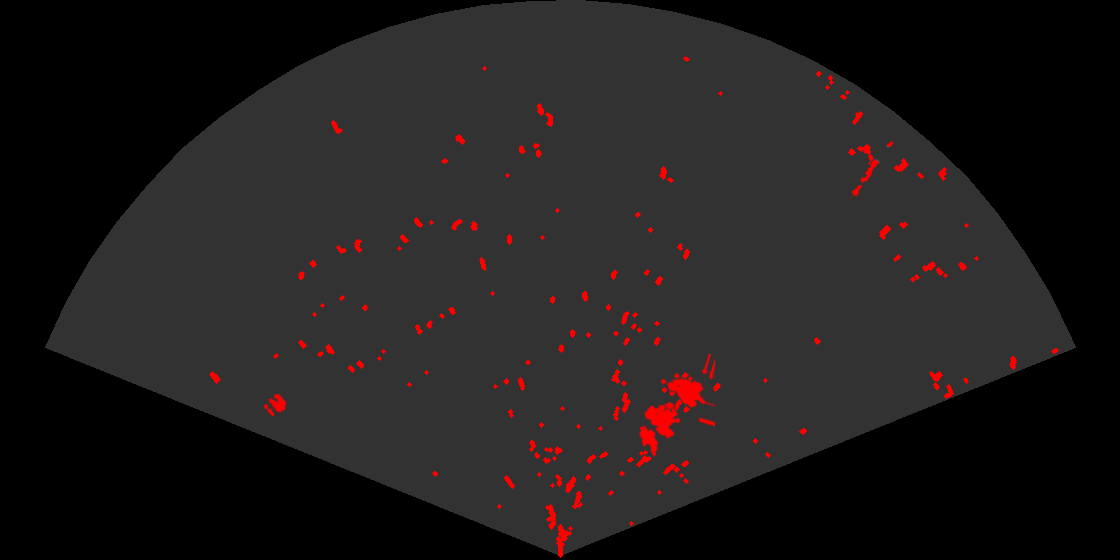AUV: (637, 424, 660, 458)
ball: (262, 392, 288, 418)
cage: (643, 354, 715, 440)
chain: (848, 133, 897, 200)
